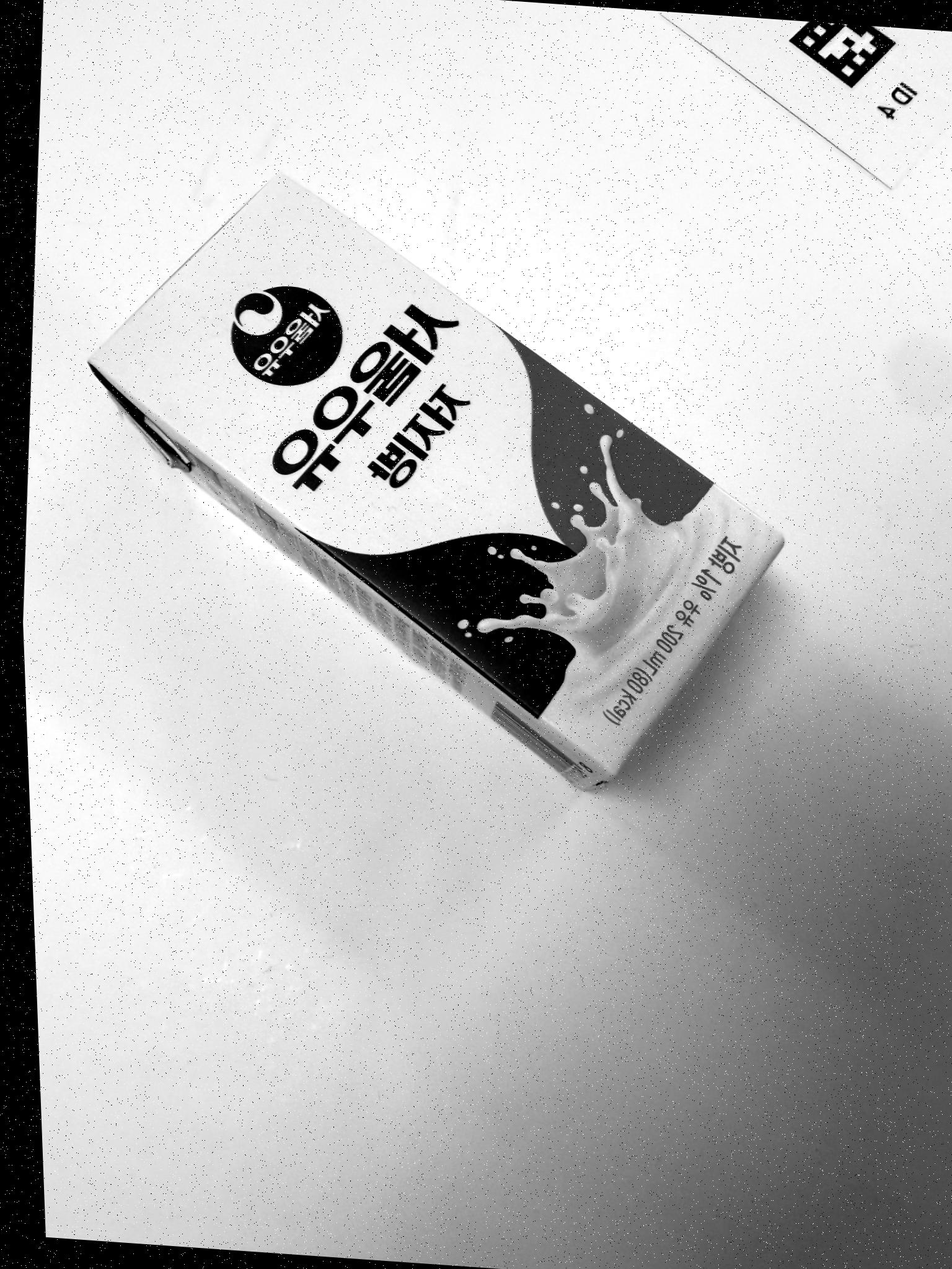milk_blue: (91, 176, 783, 789)
